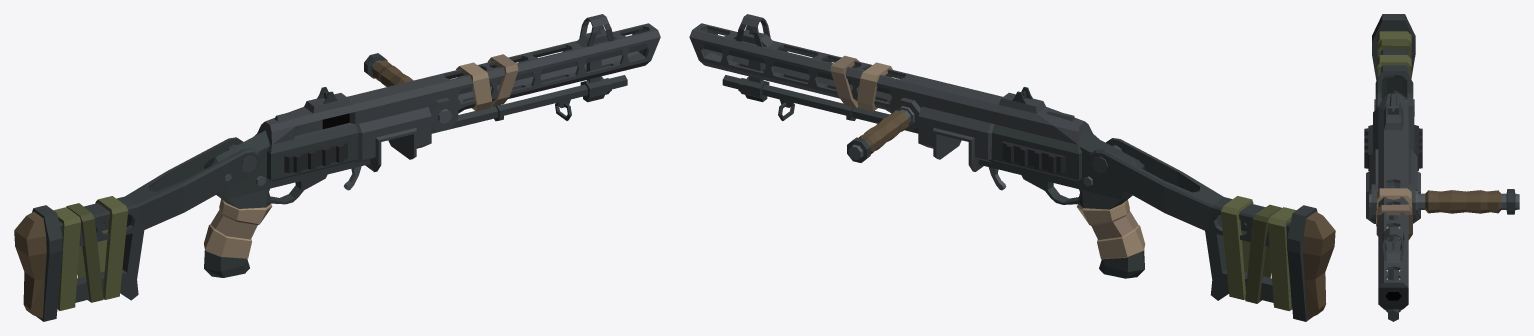
File: apoc_SM_Wep_Hybrid_02.gltf
The picture shows the model from 3 angles, left to right: view 1: azimuth 30°, elevation 25°; view 2: azimuth 150°, elevation 25°; view 3: azimuth 270°, elevation 25°; orthographic projection.
Parts seen in each view (by area): view 1: SM_Wep_Hybrid_02; view 2: SM_Wep_Hybrid_02; view 3: SM_Wep_Hybrid_02.
Part boxes in pixels (x1,y1,x2,y2): SM_Wep_Hybrid_02: (14, 14, 660, 321); SM_Wep_Hybrid_02: (689, 14, 1335, 321); SM_Wep_Hybrid_02: (1364, 14, 1519, 321).
Bounding box in the file's own units: 1.03 × 0.2612 × 0.2158.
Materials: 1 (1 with a texture image).
